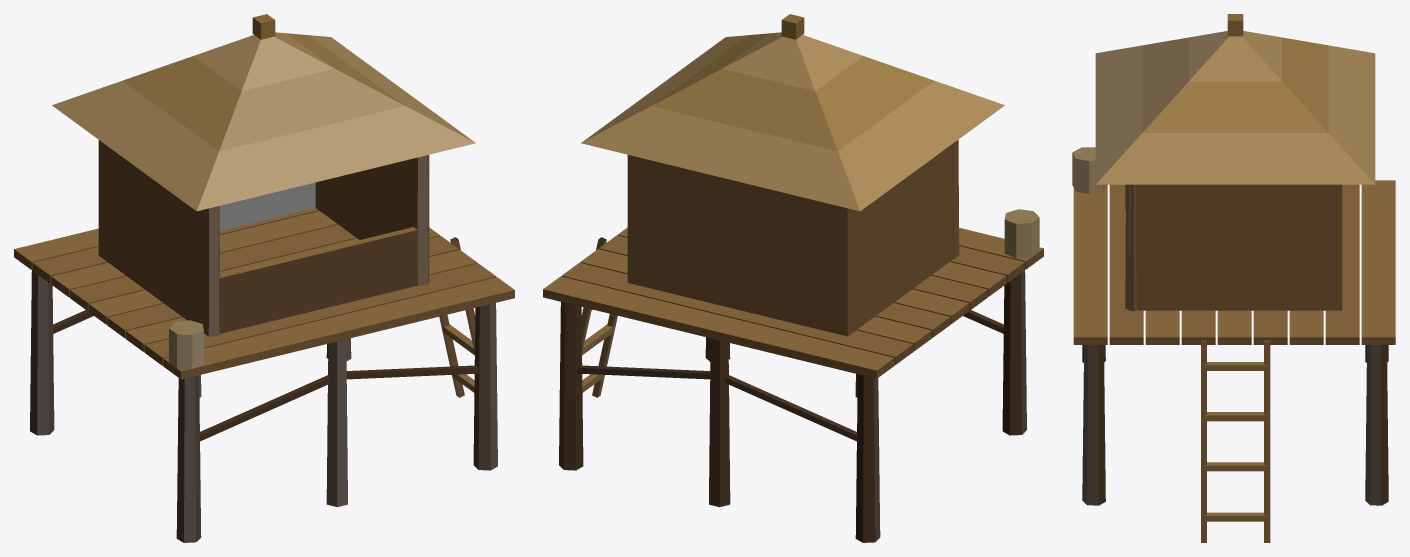
File: stilt_hut.glb
3 views of the same model, side by side, from view 1: azimuth 30°, elevation 25°; view 2: azimuth 150°, elevation 25°; view 3: azimuth 270°, elevation 25° (orthographic). The views are drawn at different scales.
Parts seen in each view (by area): view 1: stilt_hut; view 2: stilt_hut; view 3: stilt_hut.
Boxes of the visible parts, left/top/right/bottom form: stilt_hut: left=14, top=14, right=514, bottom=542; stilt_hut: left=543, top=14, right=1043, bottom=542; stilt_hut: left=1072, top=14, right=1395, bottom=542.
Size of the model in its own units: 5.39 by 5.94 by 4.09.
